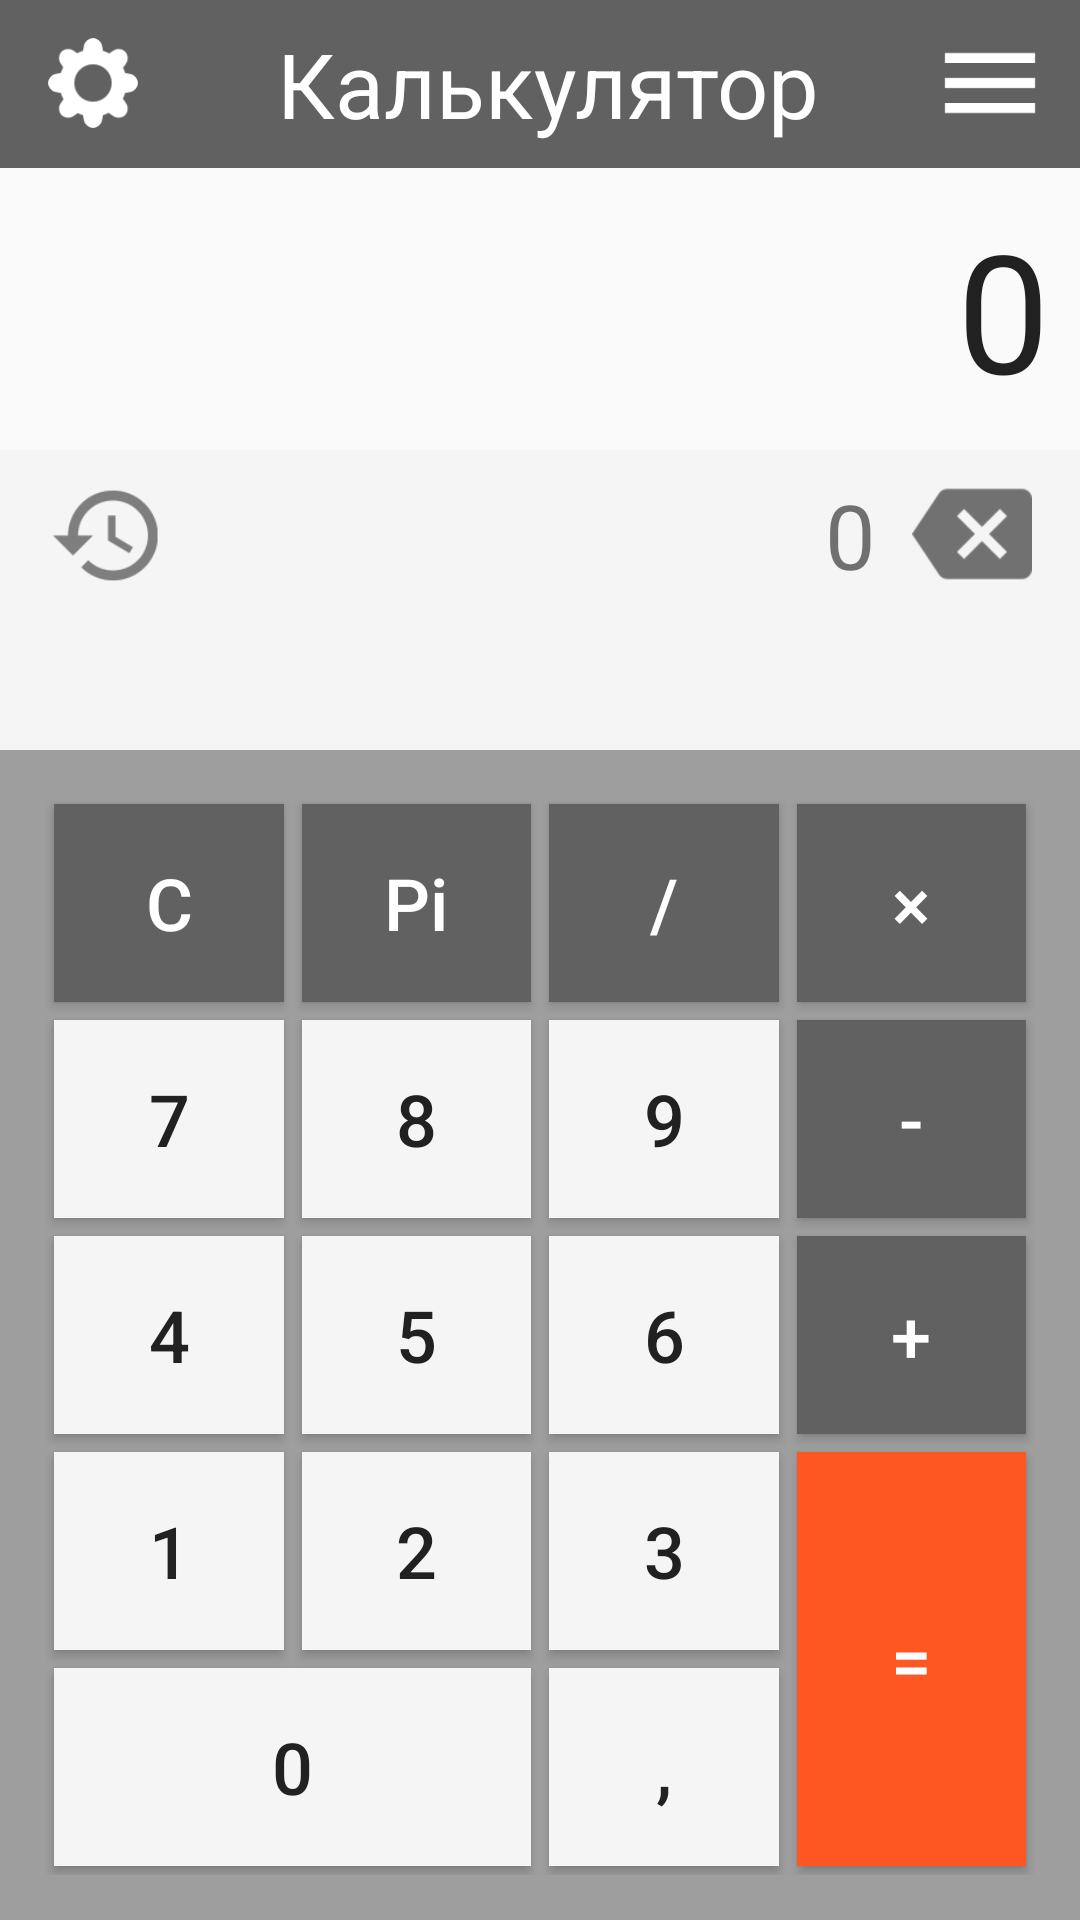

Point at icon controls on the screen. Image size 1080*1920, points as [x,y].
delete: [972,534]
history: [105,535]
menu: [990,83]
settings: [93,83]
